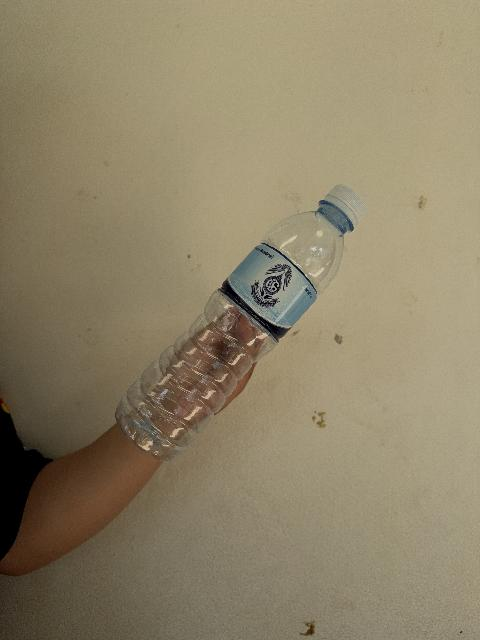bottle: (115, 186, 365, 460)
